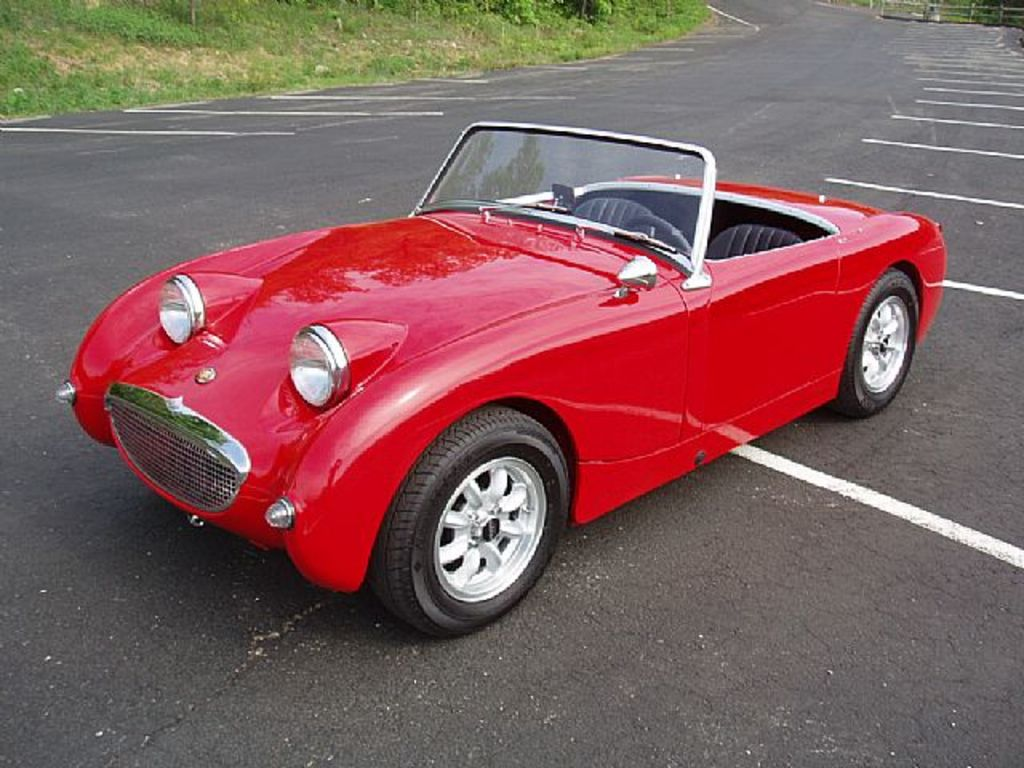Car: (55, 121, 947, 636)
